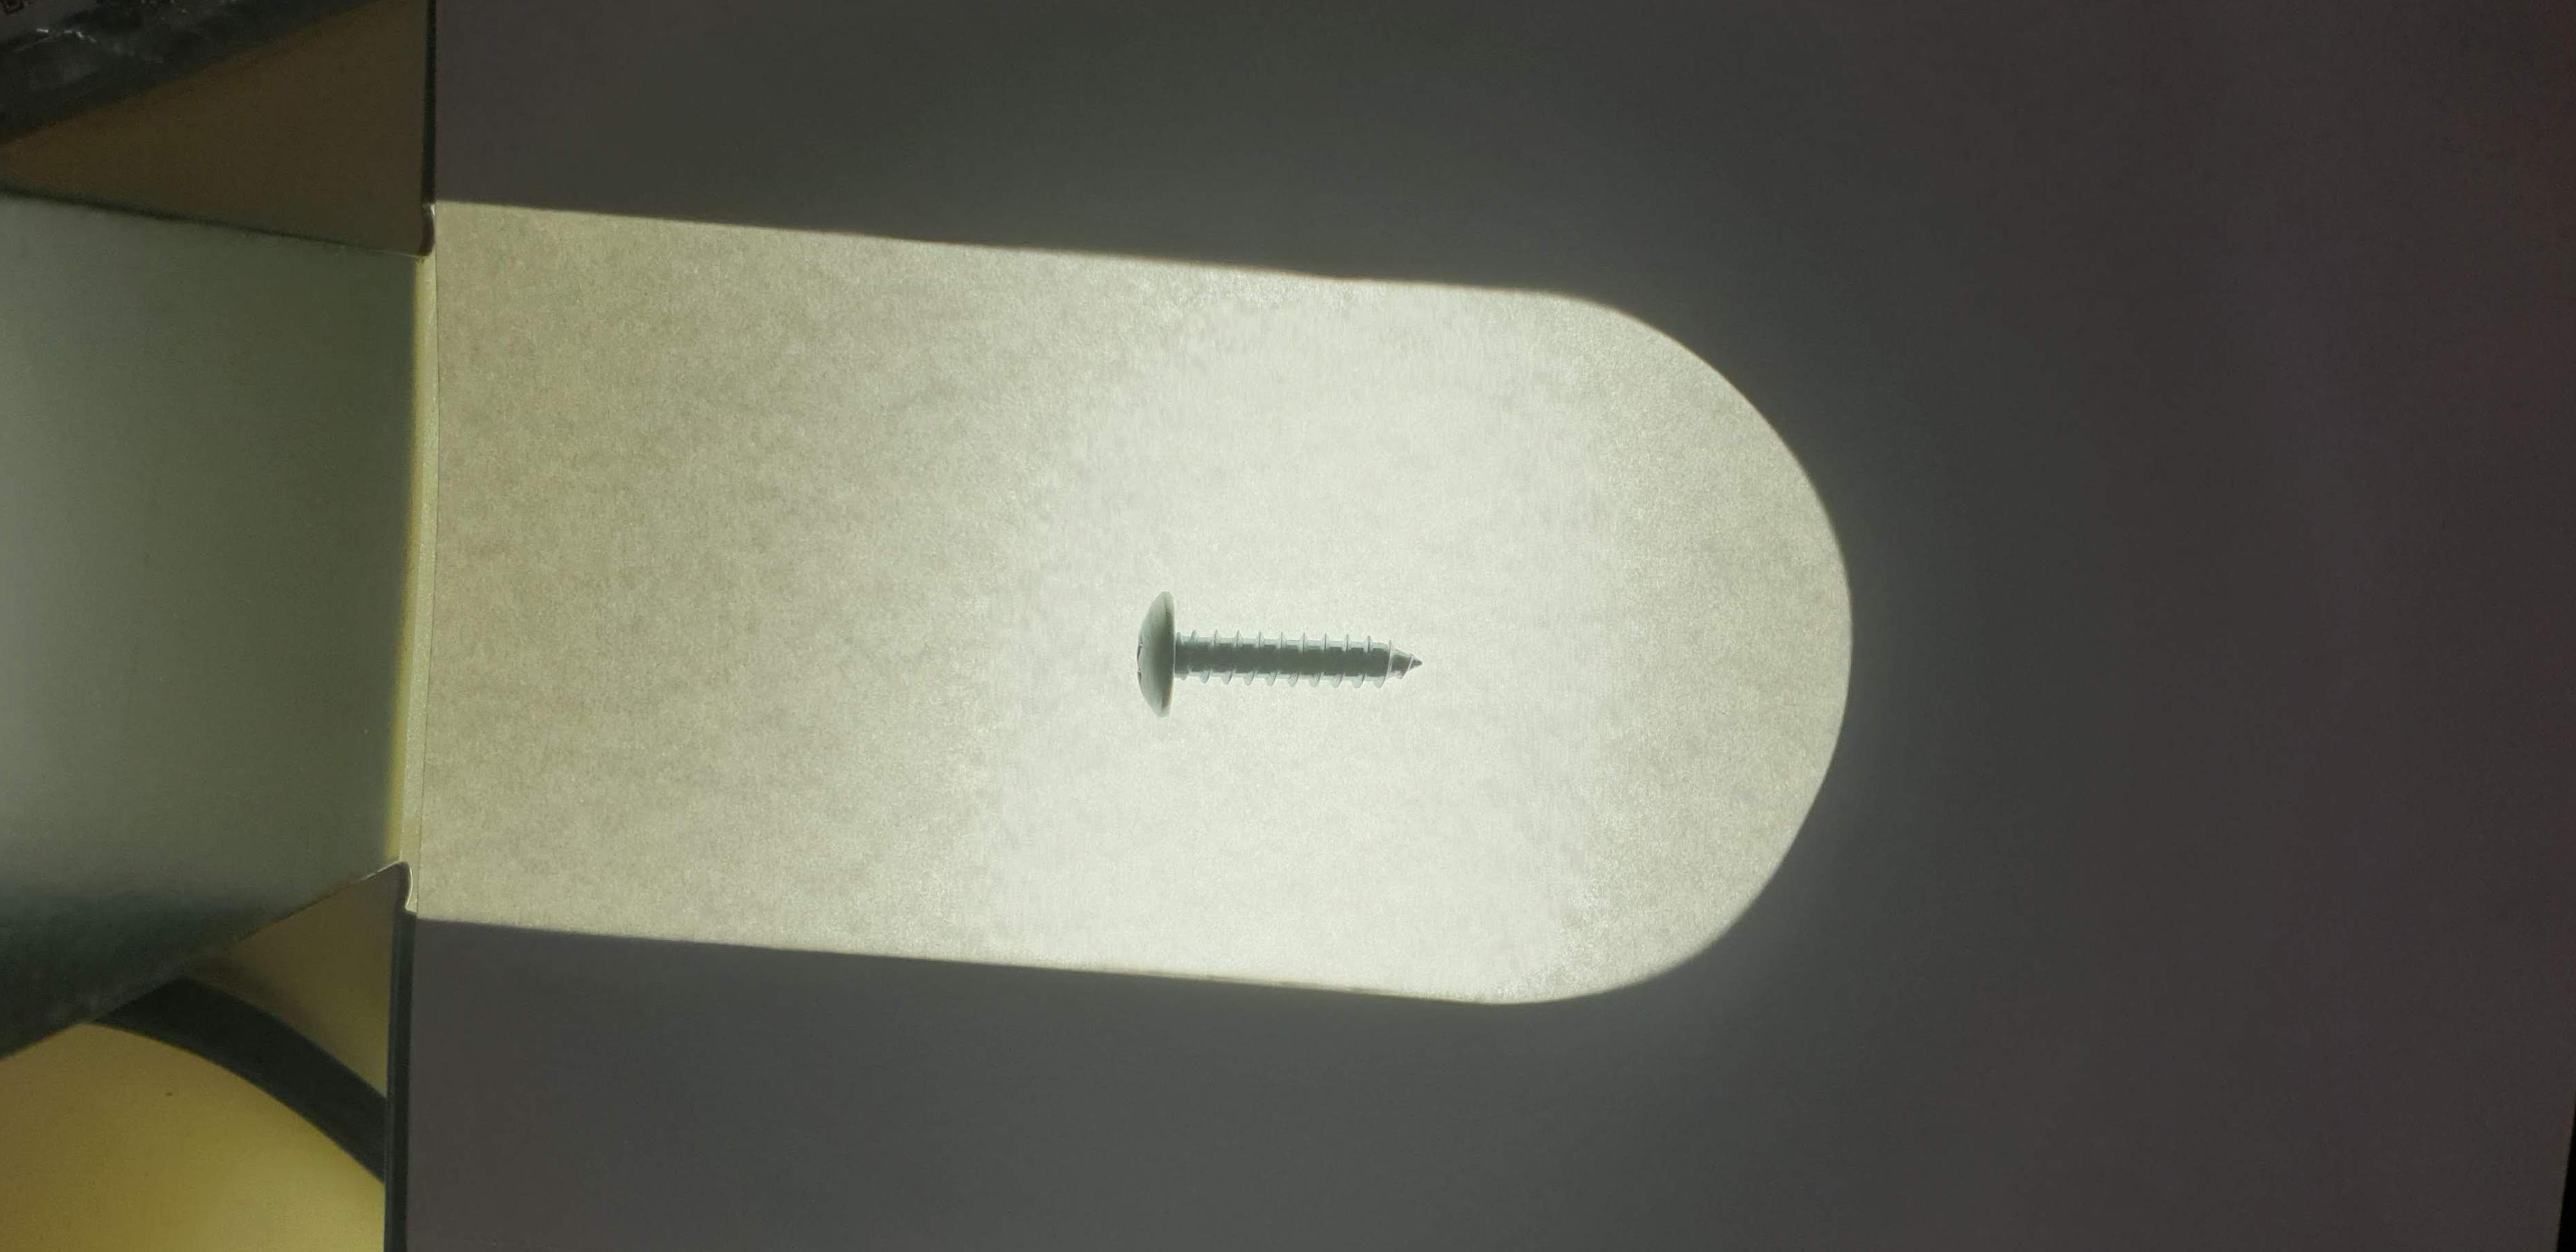S002: (1101, 572, 1454, 725)
